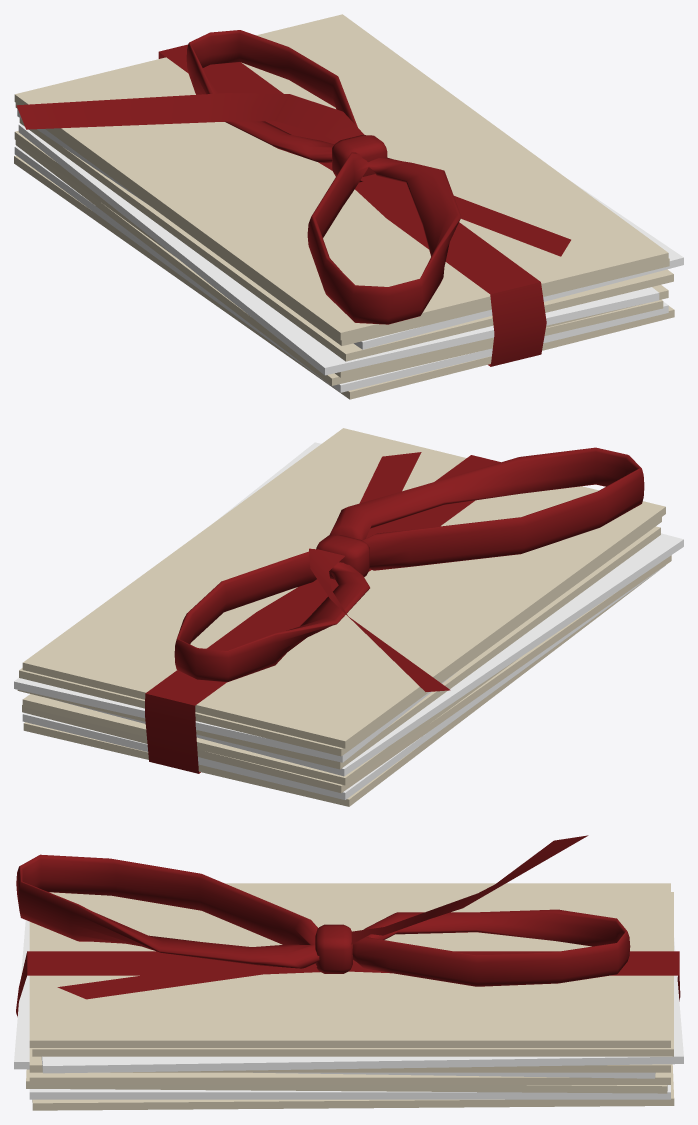
The model's file is LoveLetters.fbx.
3 views of the same model, one above another, from view 1: azimuth 30°, elevation 25°; view 2: azimuth 150°, elevation 25°; view 3: azimuth 270°, elevation 25° (orthographic).
Parts seen in each view (by area): view 1: polySurface3; view 2: polySurface3; view 3: polySurface3.
Part boxes in pixels (x1,y1,x2,y2): polySurface3: [14, 14, 683, 399]; polySurface3: [14, 428, 683, 806]; polySurface3: [14, 835, 683, 1110].
Size of the model in its own units: 8.89 by 2.54 by 13.17.
